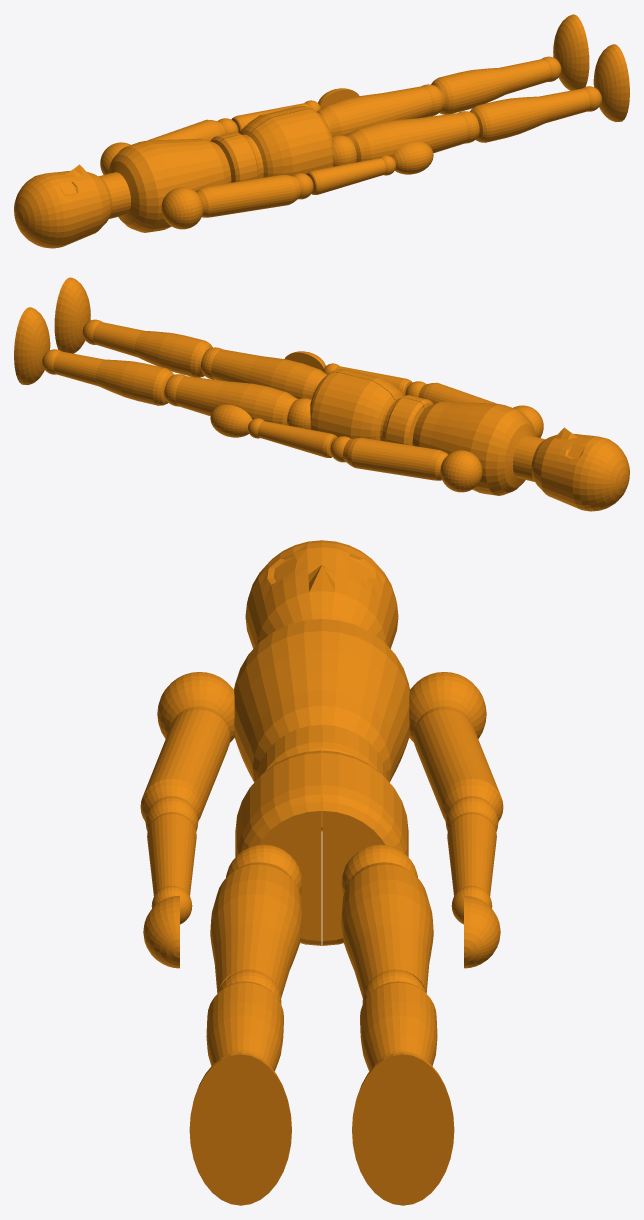
Rendered from victim.dae.
The picture shows the model from 3 angles, top to bottom: view 1: azimuth 30°, elevation 25°; view 2: azimuth 150°, elevation 25°; view 3: azimuth 270°, elevation 25°; orthographic projection. The views are drawn at different scales.
Visible parts, largest first — view 1: node_22310f1e_1a56_4b20_b26c_241370d4fd53_mesh0; view 2: node_22310f1e_1a56_4b20_b26c_241370d4fd53_mesh0; view 3: node_22310f1e_1a56_4b20_b26c_241370d4fd53_mesh0.
Boxes of the visible parts, x1=… form: node_22310f1e_1a56_4b20_b26c_241370d4fd53_mesh0: x1=14, y1=14, x2=629, y2=248; node_22310f1e_1a56_4b20_b26c_241370d4fd53_mesh0: x1=14, y1=277, x2=629, y2=511; node_22310f1e_1a56_4b20_b26c_241370d4fd53_mesh0: x1=140, y1=540, x2=503, y2=1205.
Size of the model in its own units: 136 by 36.92 by 19.87.
